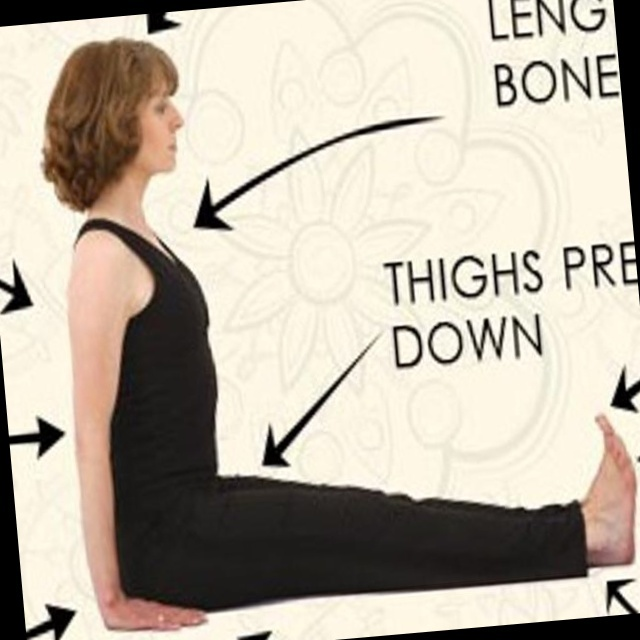Staff_Pose: (44, 37, 636, 633)
